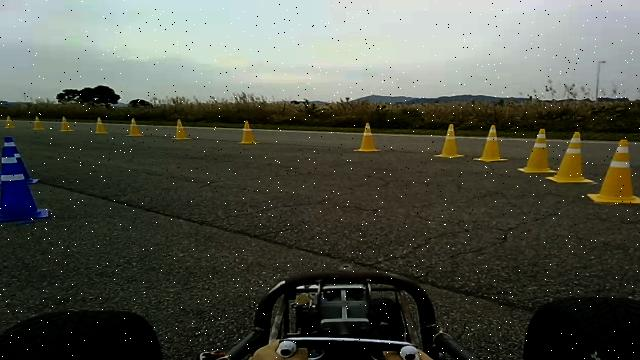blue cone: (0, 174, 49, 222), (0, 147, 39, 184), (3, 136, 20, 154)
yellow cone: (586, 138, 640, 205), (545, 131, 594, 184), (517, 128, 556, 174), (472, 124, 508, 162), (433, 123, 464, 158), (353, 122, 381, 152), (237, 120, 260, 144), (171, 118, 190, 140), (125, 118, 144, 137), (92, 116, 108, 134), (58, 115, 74, 132), (31, 115, 45, 130), (4, 115, 15, 128)
